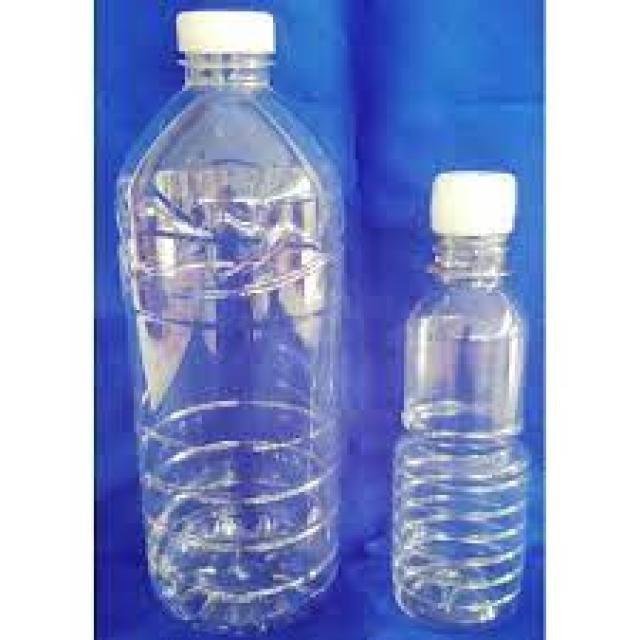plastic cup: (118, 46, 342, 632), (392, 171, 525, 624)
